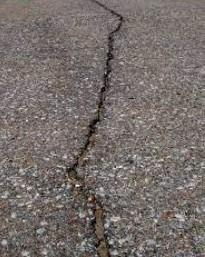crack: (61, 0, 129, 257)
